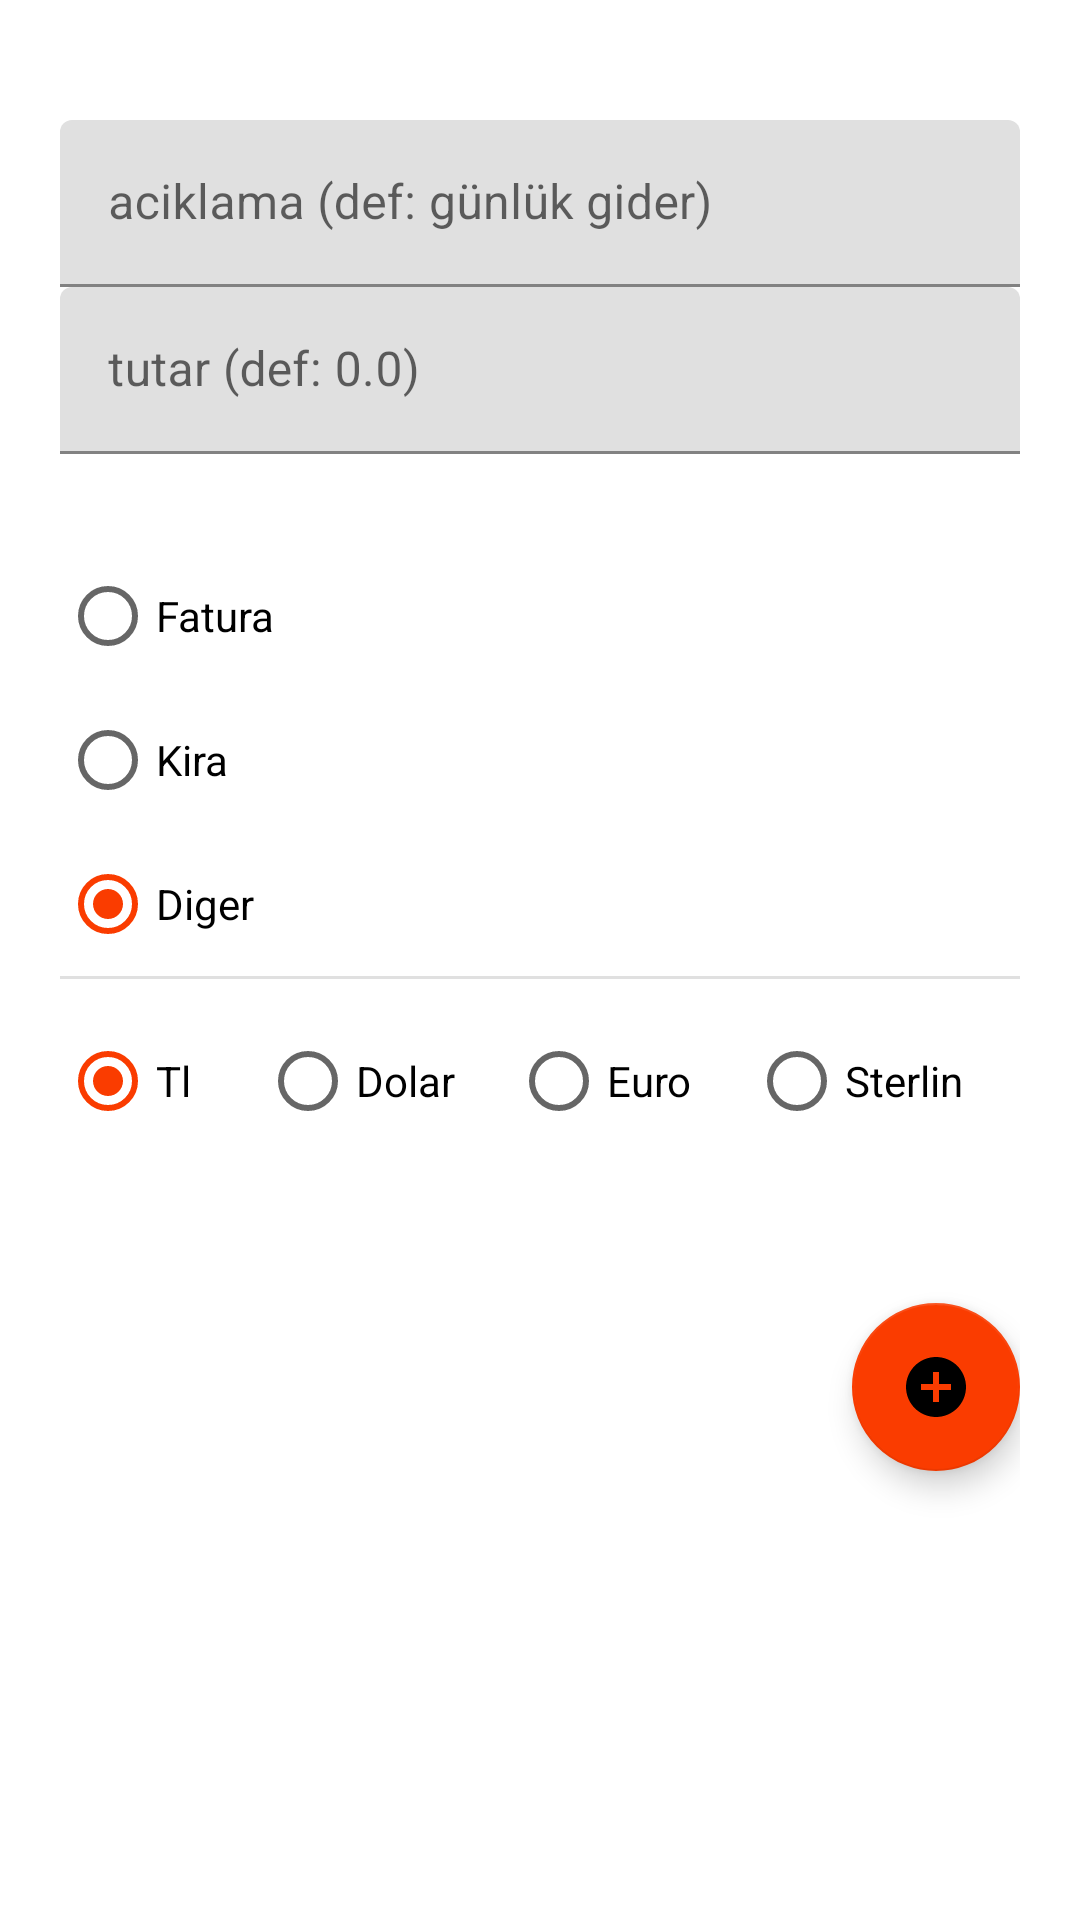

Screen size 1080x1920. Icon name, then its center in pixels as [x,y]:
add circle: [936,1387]
